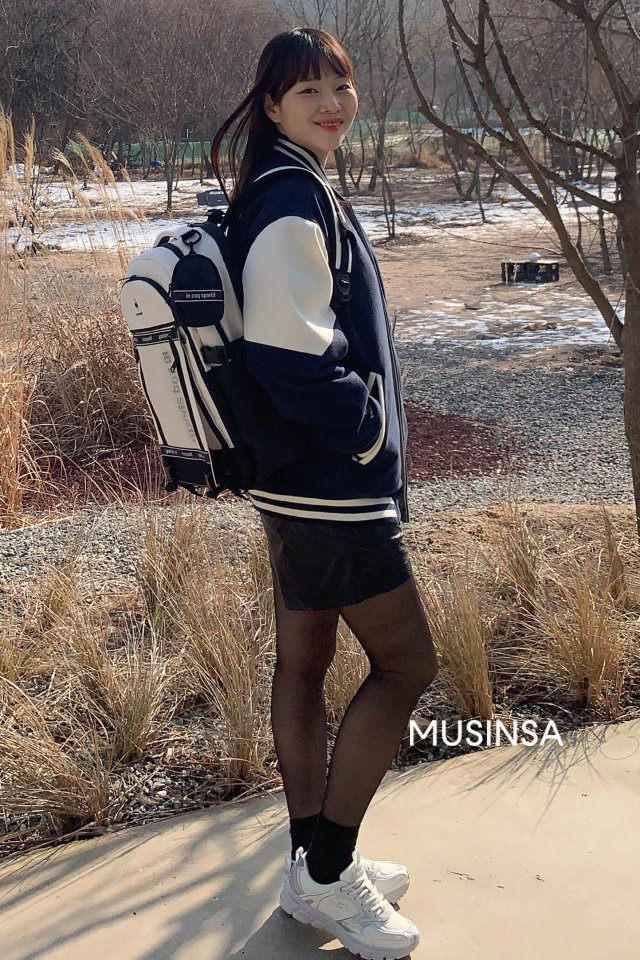Backpack: (116, 223, 281, 497)
Outer: (213, 157, 423, 533)
Shoes: (276, 843, 421, 960)
Skirt: (246, 502, 434, 606)
